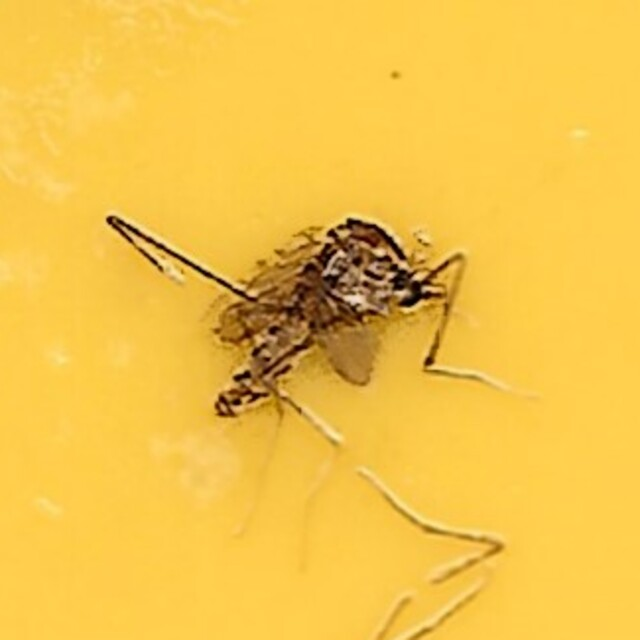Nematocera: (197, 208, 443, 432)
